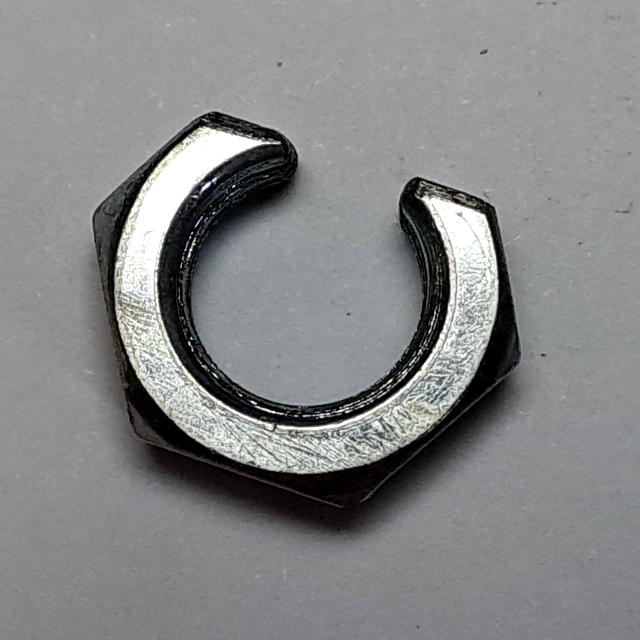Fracture: (79, 100, 536, 530)
